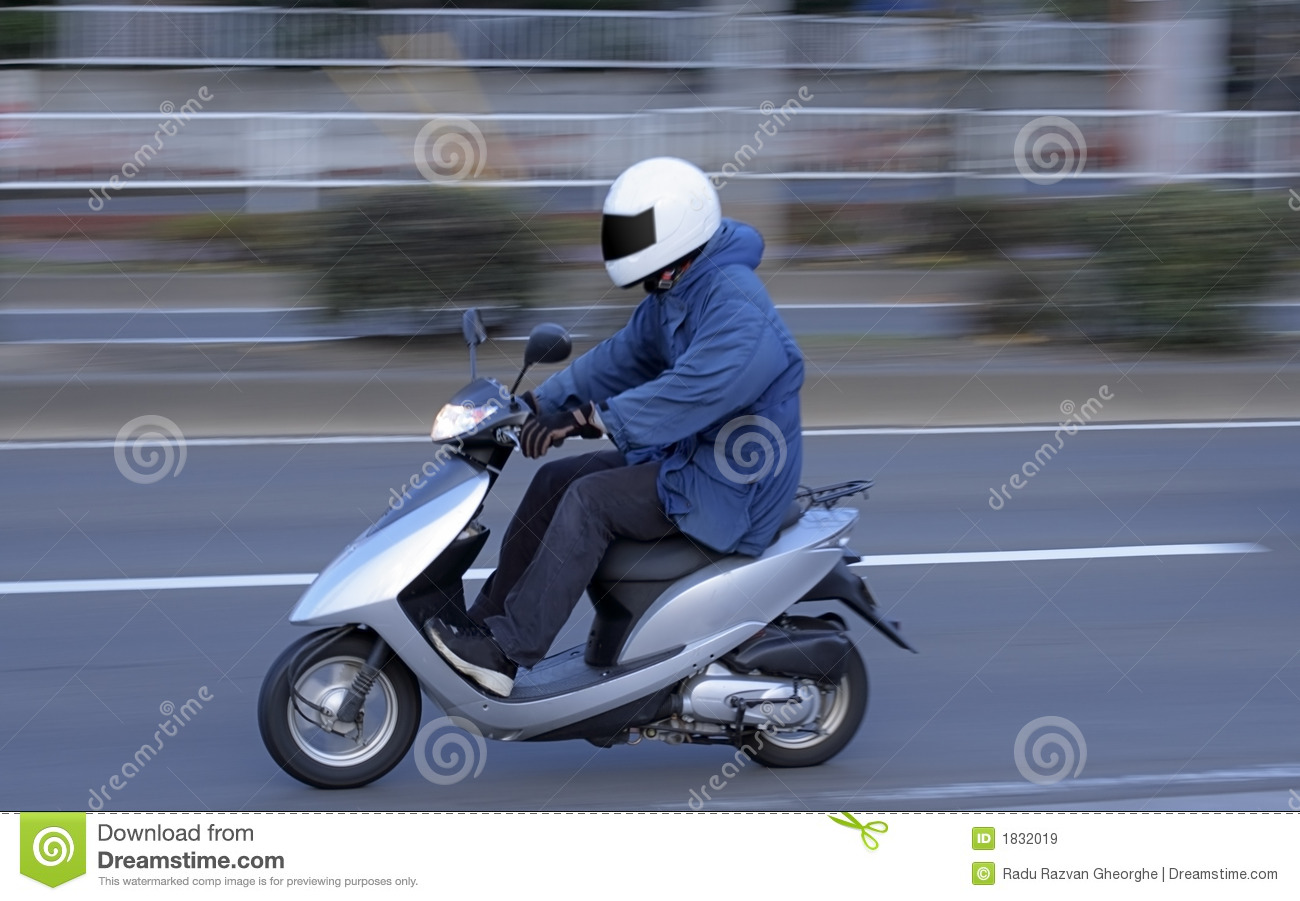helmet: (597, 152, 719, 287)
